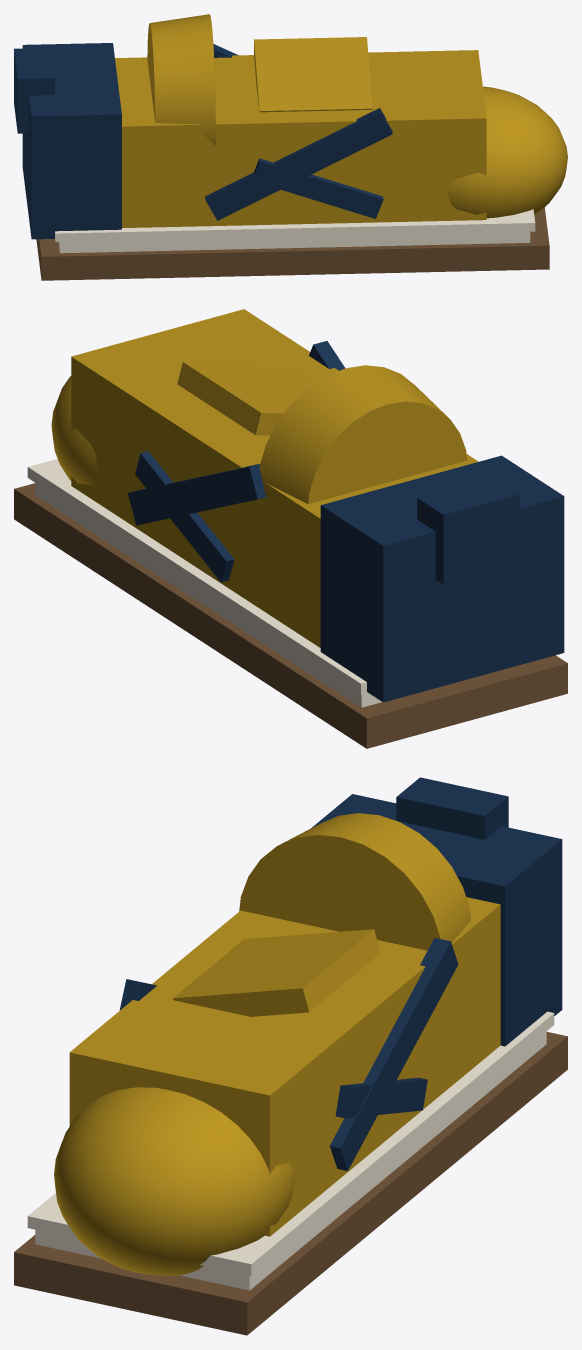
The model's file is pulso-sneaker.glb.
3 renders of one model, top to bottom at view 1: azimuth 30°, elevation 25°; view 2: azimuth 150°, elevation 25°; view 3: azimuth 270°, elevation 25°, orthographic. The views are drawn at different scales.
Visible parts, largest first — view 1: PulsoSneaker; view 2: PulsoSneaker; view 3: PulsoSneaker.
Part boxes in pixels (box(x1,y1,x2,y2)): PulsoSneaker: box(14, 14, 567, 280); PulsoSneaker: box(14, 309, 567, 748); PulsoSneaker: box(14, 777, 567, 1335).
Bounding box in the file's own units: 2.88 × 1.26 × 2.12.
